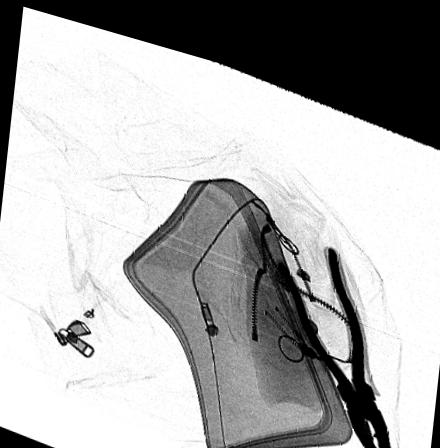Pliers: (270, 221, 392, 438)
